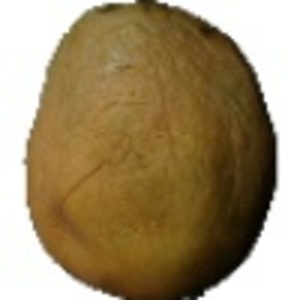mamão: (21, 4, 284, 297)
